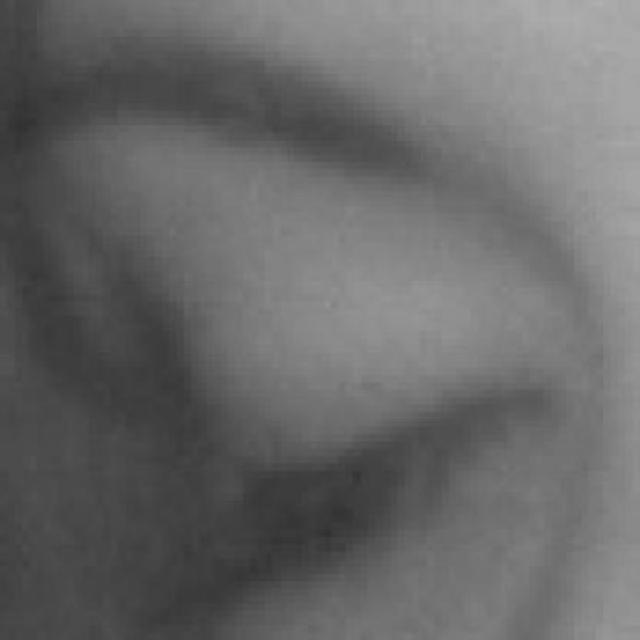drowsy: (213, 273, 559, 632)
